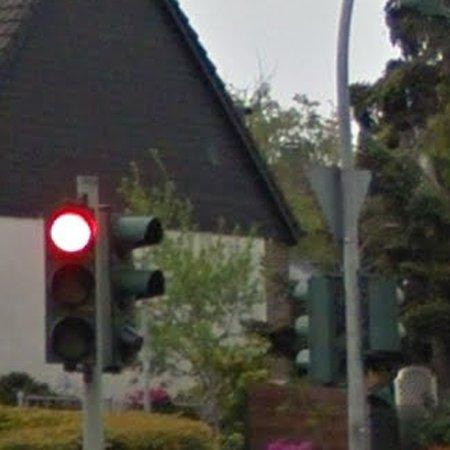traffic lights: (45, 204, 98, 374)
